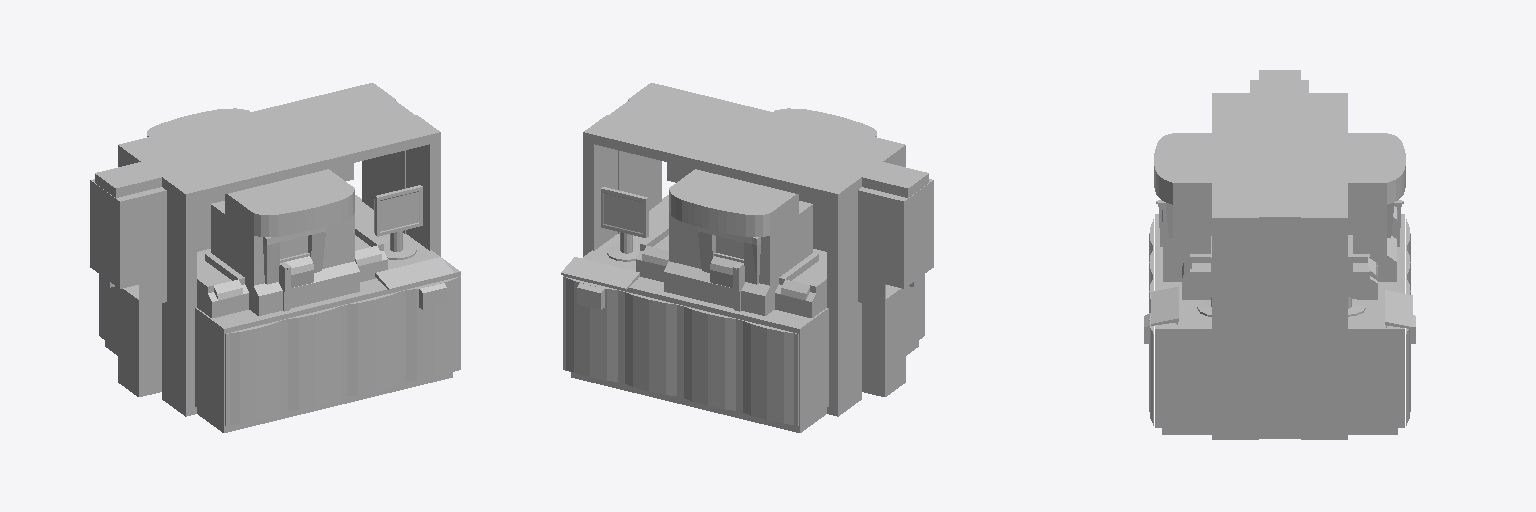
The model's file is ADVIA Dual Hematology Module.obj.
3 views of the same model, side by side, from view 1: azimuth 30°, elevation 25°; view 2: azimuth 150°, elevation 25°; view 3: azimuth 270°, elevation 25° (orthographic).
Parts seen in each view (by area): view 1: object20, object21, object1, object17, object18, object13, object3, object22, object12, object23, object8, object11 (+5 smaller); view 2: object20, object21, object1, object17, object18, object13, object3, object22, object12, object23, object8, object11 (+5 smaller); view 3: object20, object1, object21, object13, object22, object3, object18, object14.
Boxes of the visible parts, <box> form: object20: <box>118,83,440,416</box>; object21: <box>90,100,422,396</box>; object1: <box>99,108,460,432</box>; object17: <box>226,306,343,425</box>; object18: <box>344,278,457,396</box>; object13: <box>147,136,346,285</box>; object3: <box>254,190,354,236</box>; object22: <box>375,257,454,290</box>; object12: <box>322,212,354,268</box>; object23: <box>381,192,418,230</box>; object8: <box>313,261,359,295</box>; object11: <box>284,253,313,300</box>; object20: <box>583,83,905,416</box>; object21: <box>601,100,933,396</box>; object1: <box>563,108,924,432</box>; object17: <box>680,306,797,425</box>; object18: <box>566,278,679,396</box>; object13: <box>677,136,876,285</box>; object3: <box>669,190,769,236</box>; object22: <box>561,257,639,289</box>; object12: <box>669,212,701,268</box>; object23: <box>604,193,642,232</box>; object8: <box>664,261,710,295</box>; object11: <box>710,253,739,300</box>; object20: <box>1212,93,1347,439</box>; object1: <box>1144,133,1415,434</box>; object21: <box>1211,70,1352,438</box>; object13: <box>1173,133,1386,254</box>; object22: <box>1151,286,1412,328</box>; object3: <box>1154,166,1405,204</box>; object18: <box>1149,292,1410,422</box>; object14: <box>1160,240,1399,299</box>.
Size of the model in its own units: 80.84 by 57.31 by 63.2.